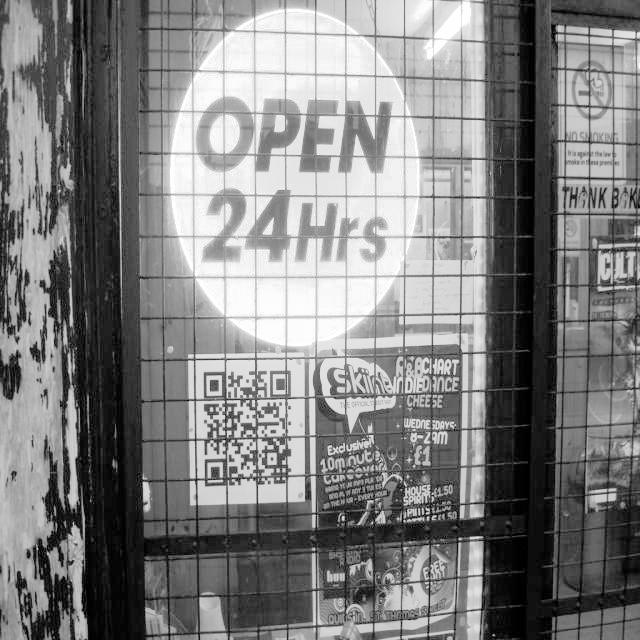qr_code: (204, 370, 291, 486)
